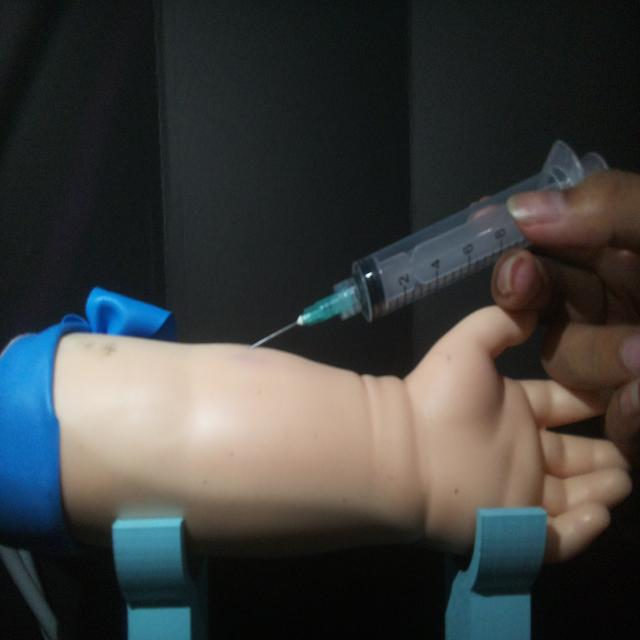29deg: (246, 135, 614, 355)
